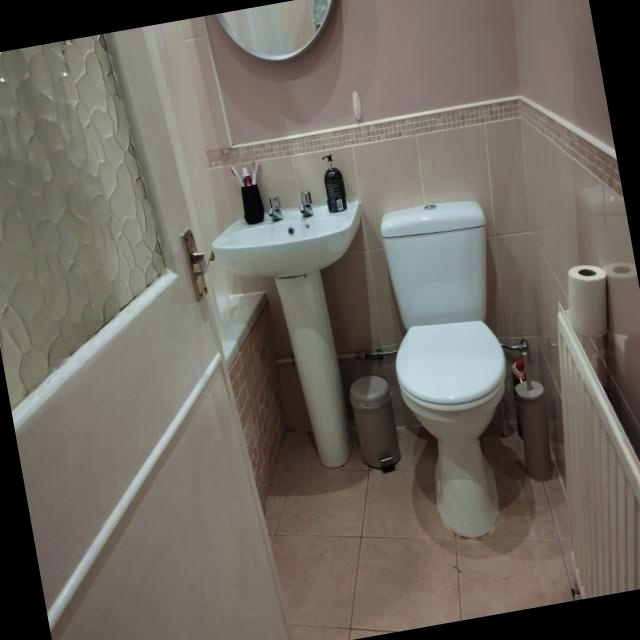bathtube: (223, 292, 284, 497)
table: (379, 201, 509, 540)
wardrobe: (212, 201, 362, 468)
